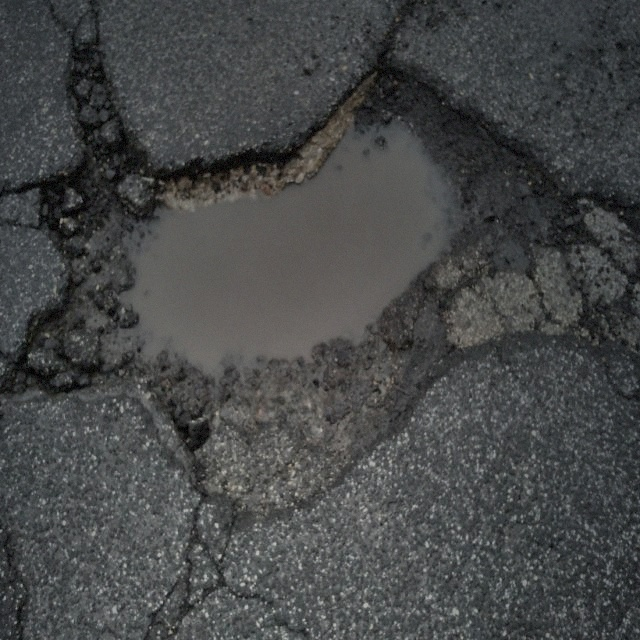pothole: (27, 39, 611, 520)
